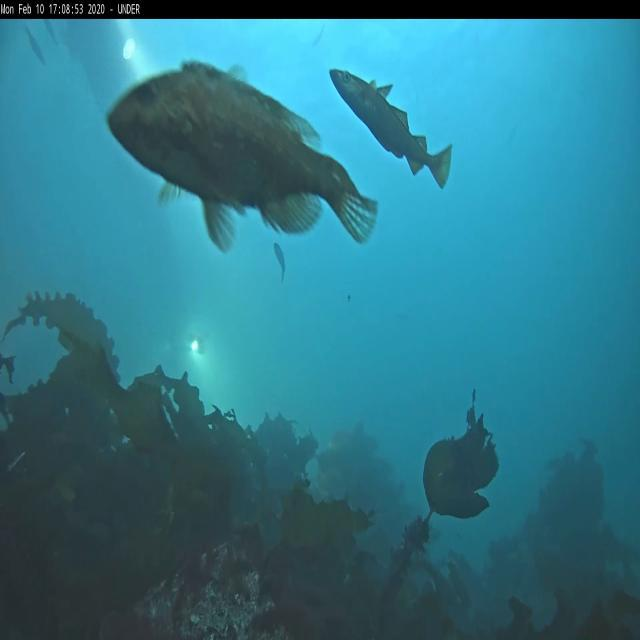fish: (106, 61, 378, 253), (328, 66, 452, 192), (24, 20, 46, 66), (272, 240, 286, 280), (43, 20, 60, 45)
